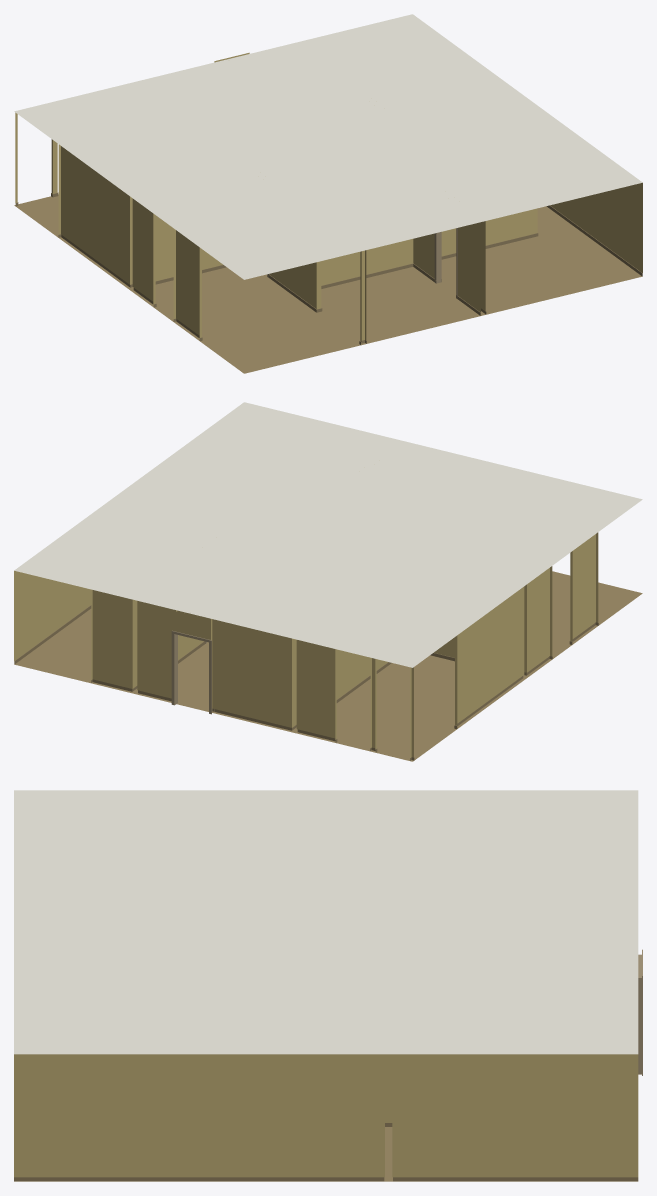
The model's file is chunk_5_4.glb.
3 renders of one model, top to bottom at view 1: azimuth 30°, elevation 25°; view 2: azimuth 150°, elevation 25°; view 3: azimuth 270°, elevation 25°, orthographic. The views are drawn at different scales.
Visible parts, largest first — view 1: chunk_5_4; view 2: chunk_5_4; view 3: chunk_5_4.
Part boxes in pixels (x1=…): chunk_5_4: x1=14, y1=14, x2=642, y2=373; chunk_5_4: x1=14, y1=402, x2=642, y2=761; chunk_5_4: x1=14, y1=790, x2=642, y2=1181.
Bounding box in the file's own units: 12.01 × 2.7 × 12.09.
